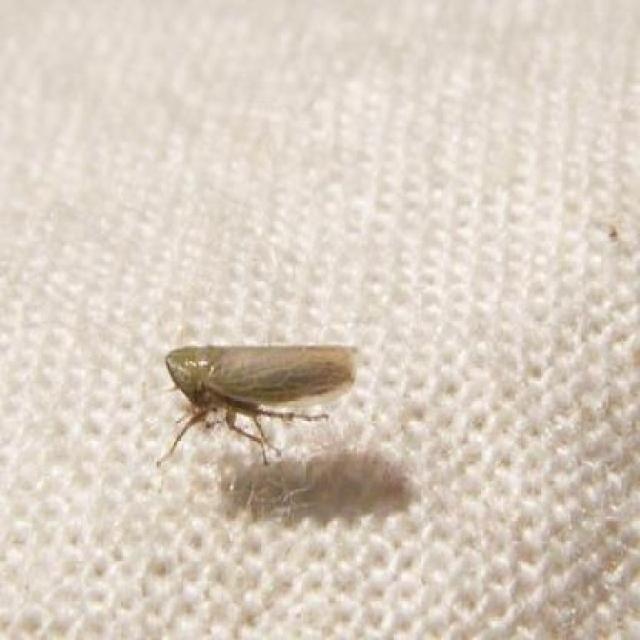brown-planthopper: (164, 339, 359, 423)
